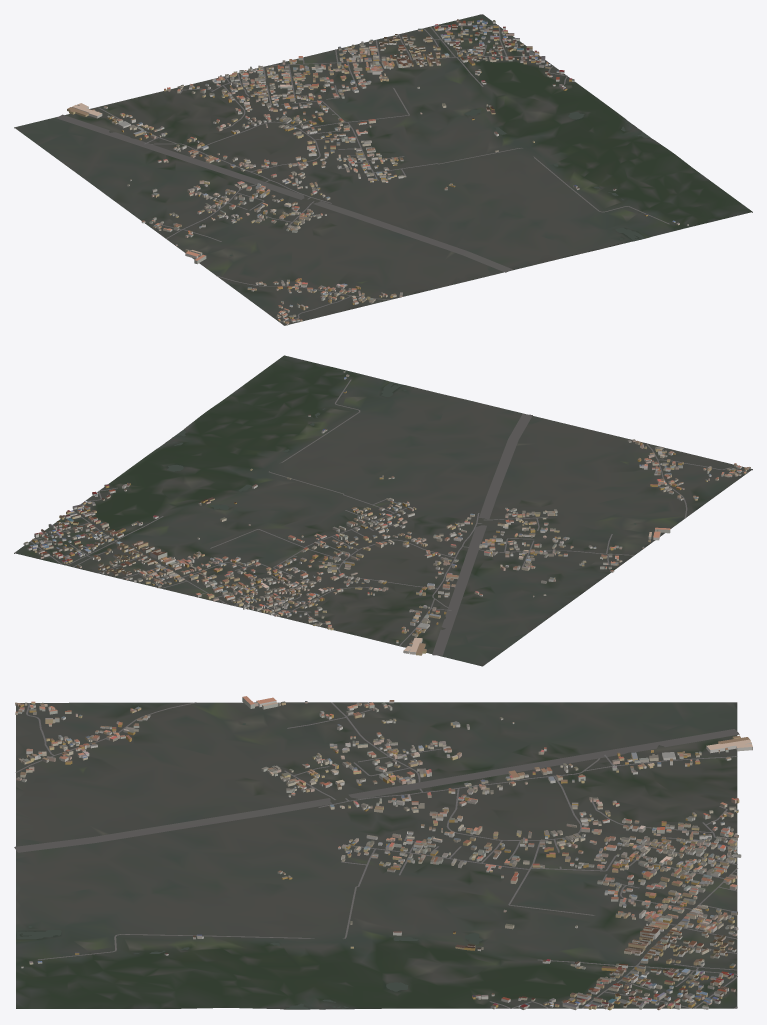
3 views of the same model, one above another, from view 1: azimuth 30°, elevation 25°; view 2: azimuth 150°, elevation 25°; view 3: azimuth 270°, elevation 25° (orthographic). The views are drawn at different scales.
Visible parts, largest first — view 1: ground, buildings, roads, water; view 2: ground, buildings, roads, water; view 3: ground, buildings, roads, water.
Boxes of the visible parts, x1,y1,x2,y2 form: ground: (14, 15, 752, 325); buildings: (67, 18, 688, 325); roads: (56, 14, 669, 322); water: (229, 109, 650, 255); ground: (14, 355, 752, 666); buildings: (23, 371, 750, 655); roads: (14, 379, 747, 655); water: (162, 382, 636, 524); ground: (16, 702, 737, 1009); buildings: (15, 696, 752, 1010); roads: (14, 702, 739, 1008); water: (16, 723, 483, 1008).
Size of the model in its own units: 1421 by 17.59 by 1436.
